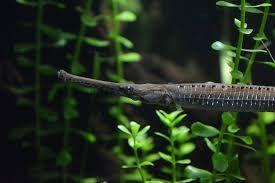Long-Snouted Pipefish: (55, 60, 275, 119)
